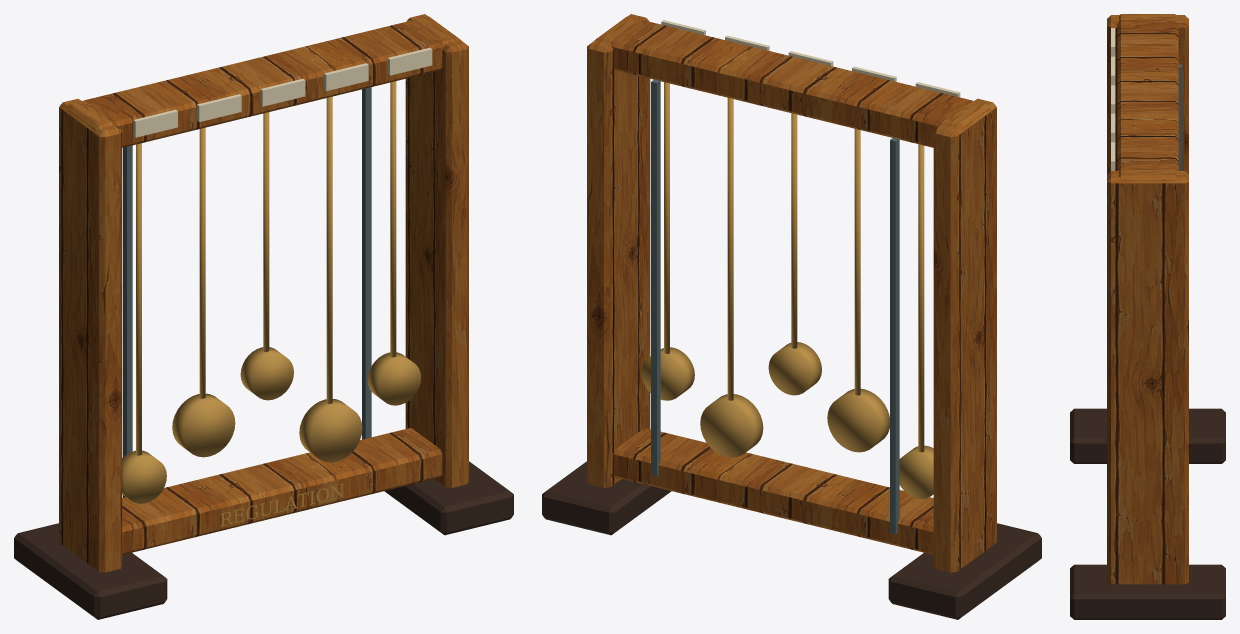
The picture shows the model from 3 angles, left to right: view 1: azimuth 30°, elevation 25°; view 2: azimuth 150°, elevation 25°; view 3: azimuth 270°, elevation 25°; orthographic projection. The views are drawn at different scales.
Visible parts, largest first — view 1: clockshop_walnut, clockshop_brass, clockshop_darkwood, clockshop_steel, clockshop_ivory; view 2: clockshop_walnut, clockshop_brass, clockshop_darkwood, clockshop_steel, clockshop_ivory; view 3: clockshop_walnut, clockshop_darkwood, clockshop_ivory, clockshop_steel.
Boxes of the visible parts, bbox=[...] form: clockshop_walnut: bbox=[59, 14, 468, 572]; clockshop_brass: bbox=[122, 81, 420, 526]; clockshop_darkwood: bbox=[14, 461, 513, 619]; clockshop_steel: bbox=[123, 87, 371, 497]; clockshop_ivory: bbox=[133, 47, 432, 137]; clockshop_walnut: bbox=[587, 14, 996, 572]; clockshop_brass: bbox=[641, 82, 933, 498]; clockshop_darkwood: bbox=[542, 461, 1041, 619]; clockshop_steel: bbox=[651, 79, 899, 534]; clockshop_ivory: bbox=[661, 20, 960, 97]; clockshop_walnut: bbox=[1107, 14, 1188, 584]; clockshop_darkwood: bbox=[1070, 408, 1225, 619]; clockshop_ivory: bbox=[1111, 28, 1115, 170]; clockshop_steel: bbox=[1178, 64, 1182, 170].
Bounding box in the file's own units: 2.18 × 2.33 × 0.76.
5 materials, 1 textured.
